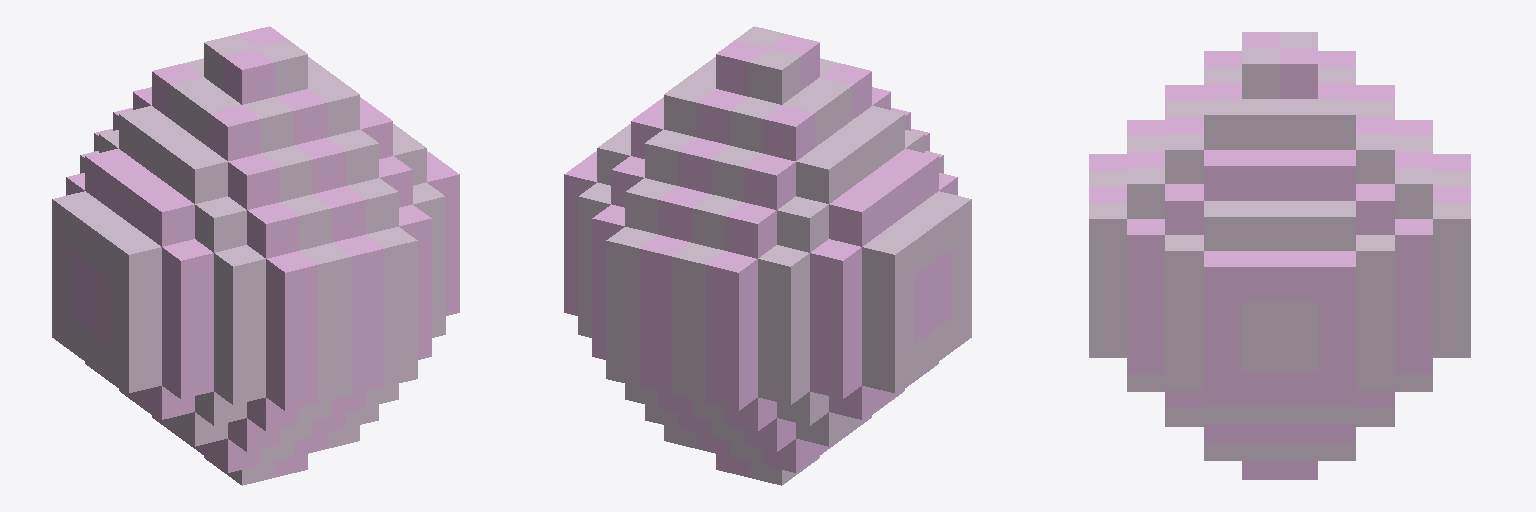
3 renders of one model, left to right at view 1: azimuth 30°, elevation 25°; view 2: azimuth 150°, elevation 25°; view 3: azimuth 270°, elevation 25°, orthographic.
Visible parts, largest first — view 1: object 1; view 2: object 1; view 3: object 1.
Boxes of the visible parts, box(x1,y1,x2,y2) form: object 1: box(52, 26, 459, 485); object 1: box(564, 26, 971, 485); object 1: box(1089, 32, 1470, 479).
Bounding box in the file's own units: 1 × 1.2 × 1.
1 materials, 1 textured.